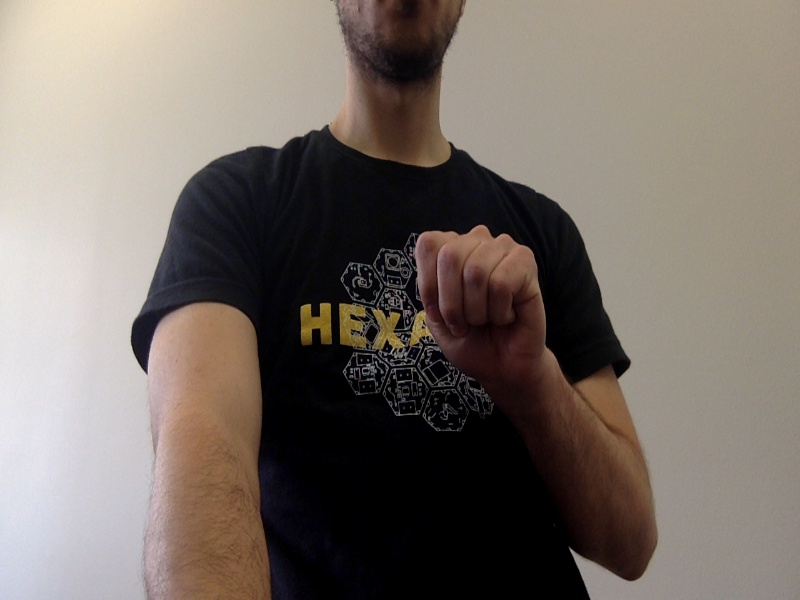0-hand: (415, 222, 548, 385)
